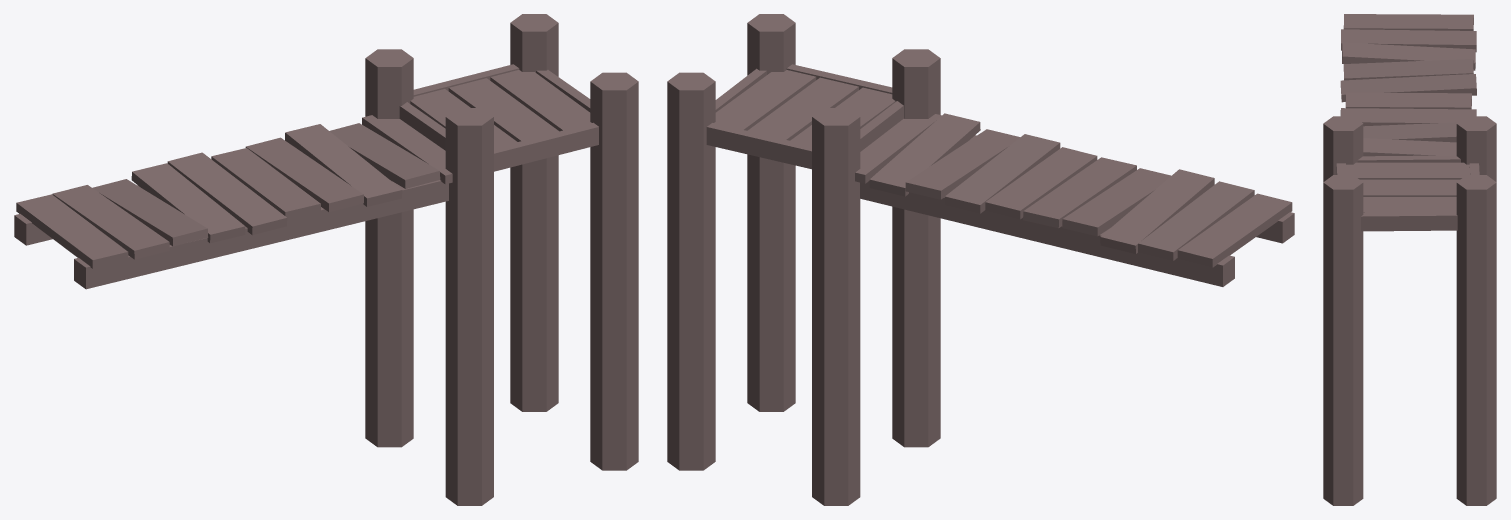
The model's file is RiverLand.glb.
3 views of the same model, side by side, from view 1: azimuth 30°, elevation 25°; view 2: azimuth 150°, elevation 25°; view 3: azimuth 270°, elevation 25° (orthographic). The views are drawn at different scales.
Visible parts, largest first — view 1: Cube_048; view 2: Cube_048; view 3: Cube_048.
Boxes of the visible parts, <box> form: Cube_048: <box>14,14,638,505</box>; Cube_048: <box>667,14,1294,505</box>; Cube_048: <box>1323,14,1496,505</box>.
Size of the model in its own units: 8.77 by 5.86 by 2.91.
1 material, 1 textured.
